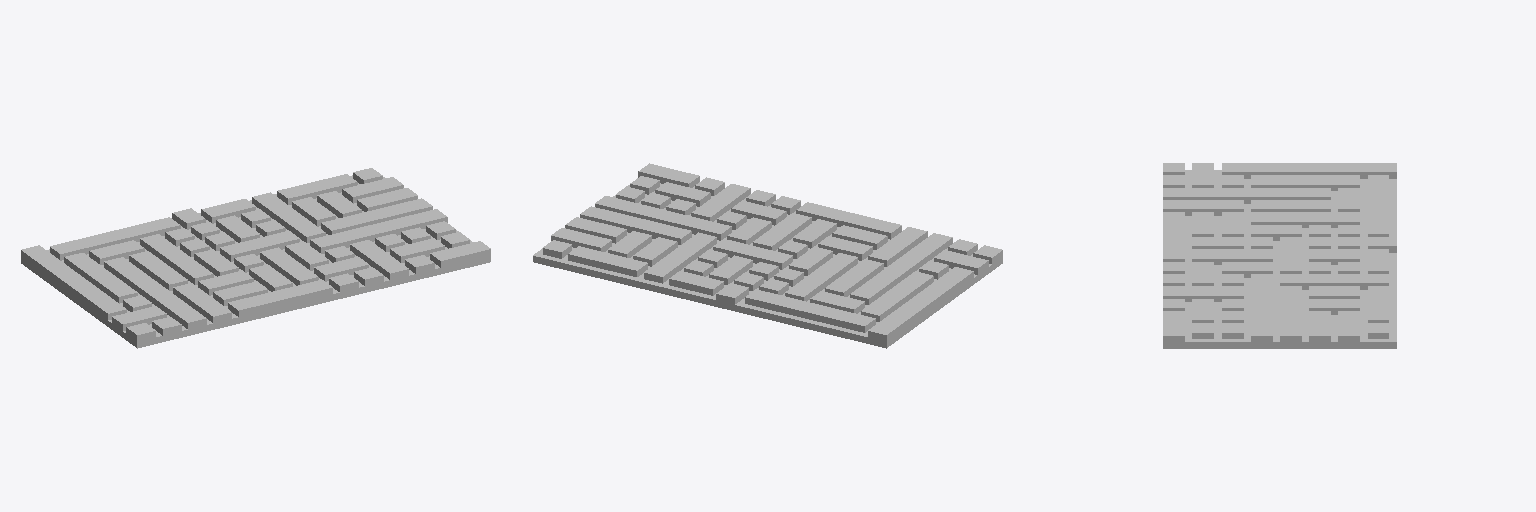
File: Floor.obj
3 renders of one model, left to right at view 1: azimuth 30°, elevation 25°; view 2: azimuth 150°, elevation 25°; view 3: azimuth 270°, elevation 25°, orthographic.
Parts seen in each view (by area): view 1: object 1; view 2: object 1; view 3: object 1.
Part boxes in pixels (left/top/right/bottom): object 1: left=21, top=168, right=490, bottom=348; object 1: left=533, top=163, right=1002, bottom=348; object 1: left=1163, top=163, right=1396, bottom=348.
Size of the model in its own units: 5.6 by 0.2 by 3.2.